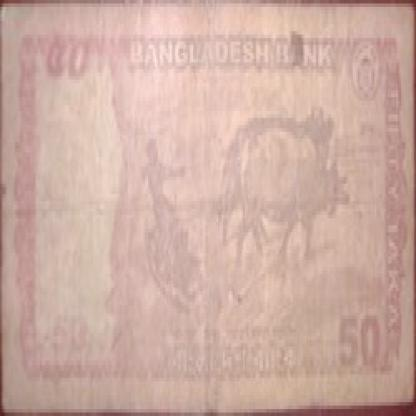Fifty taka: (43, 17, 98, 90)
